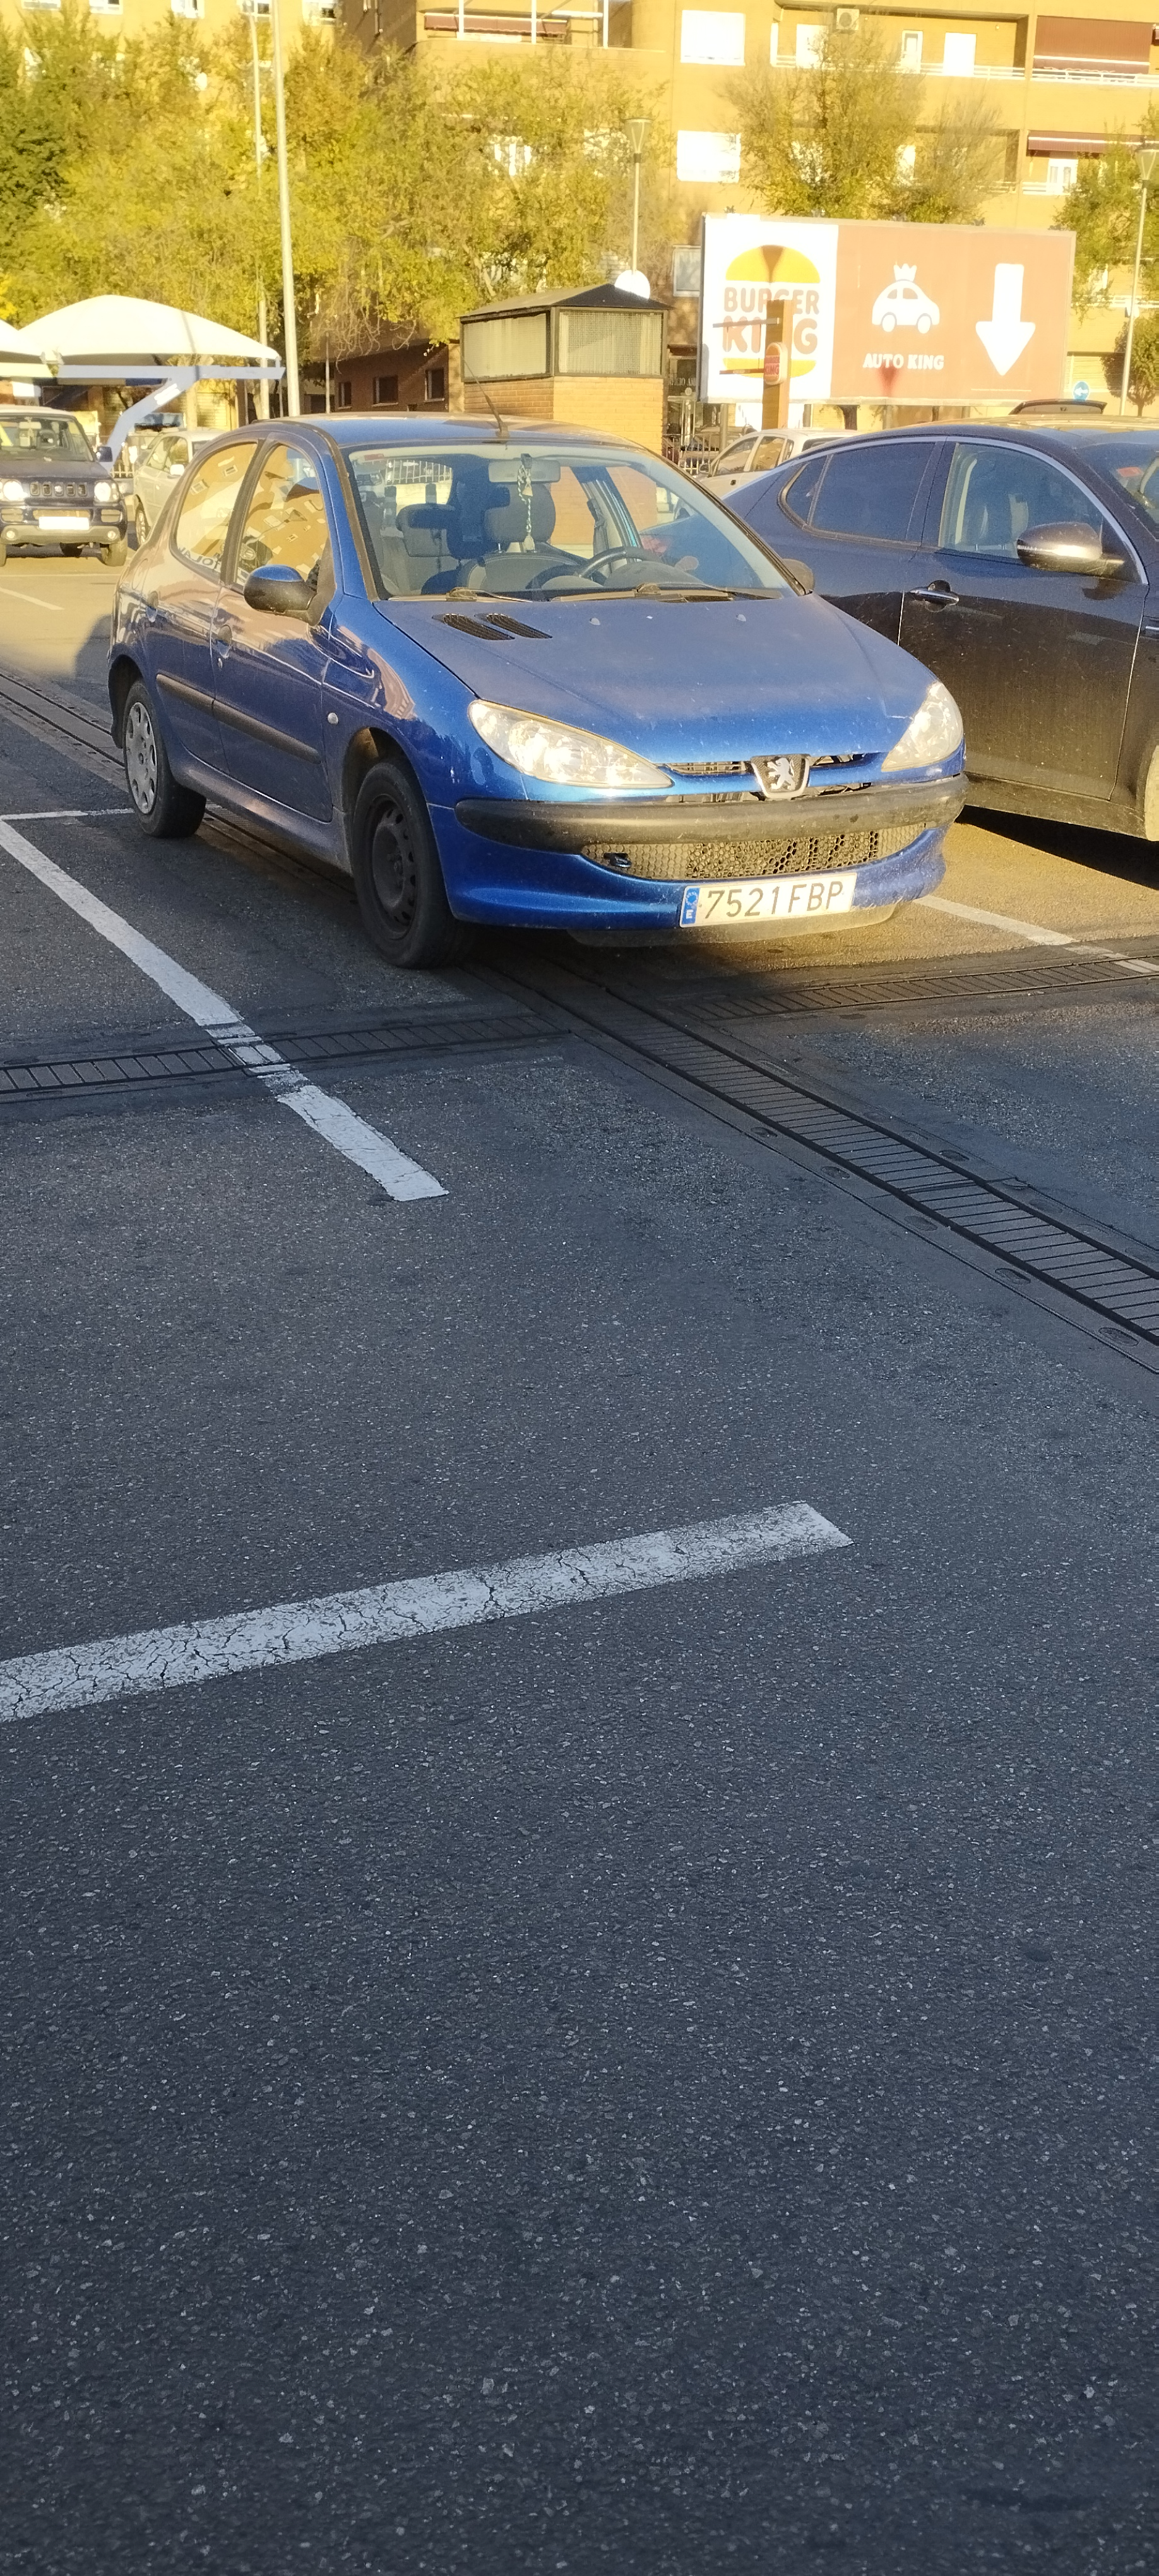Car: (105, 406, 964, 941)
Plate: (670, 876, 852, 927)
